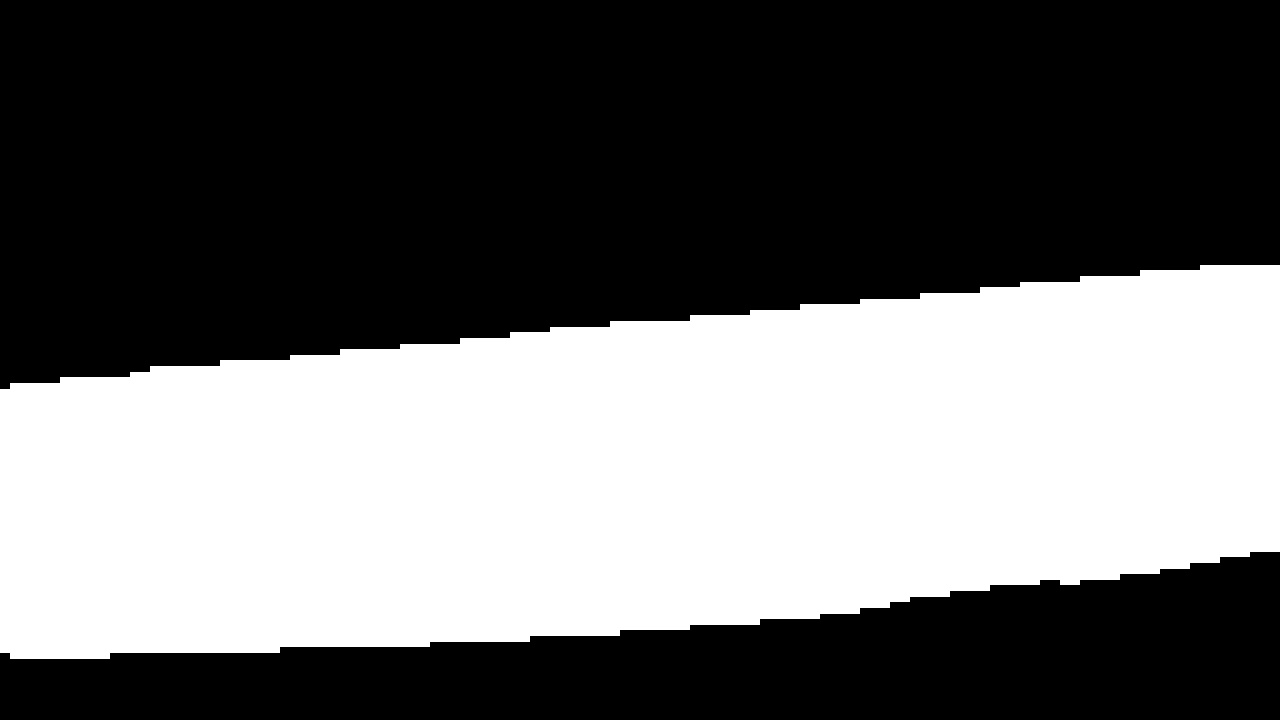Turbine: (9, 237, 1266, 677)
